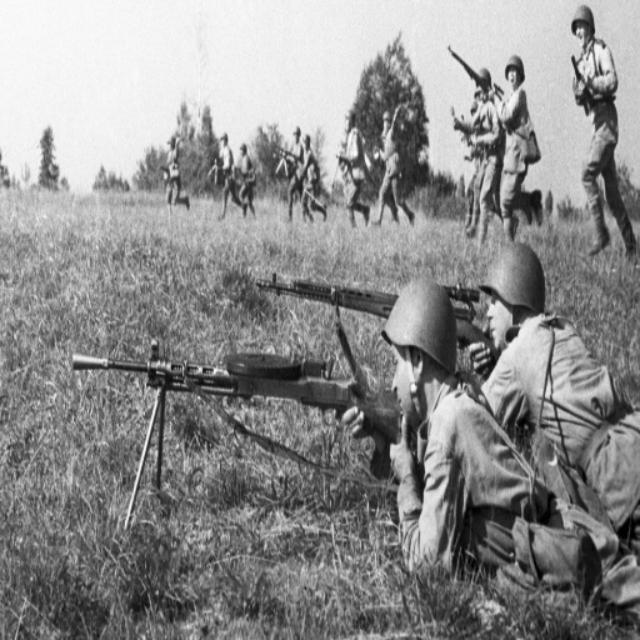other: (474, 244, 640, 504), (380, 285, 480, 635), (568, 3, 636, 245), (502, 51, 532, 241), (372, 109, 412, 227), (336, 105, 366, 228), (472, 60, 492, 234), (158, 128, 188, 222), (218, 117, 236, 226), (281, 118, 301, 216), (302, 134, 320, 230), (238, 138, 258, 218)
